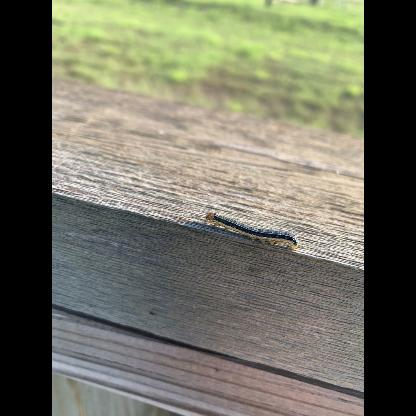Fall Armyworm Larvae: (204, 210, 300, 252)
